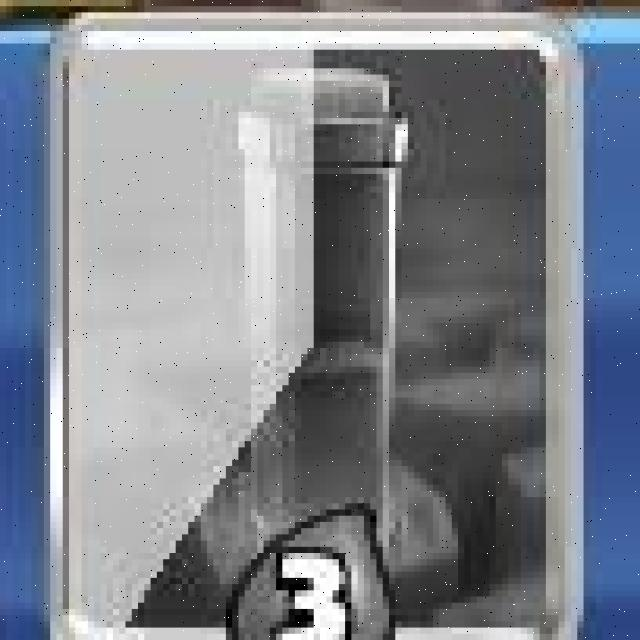Earthquake: (50, 12, 582, 640)
